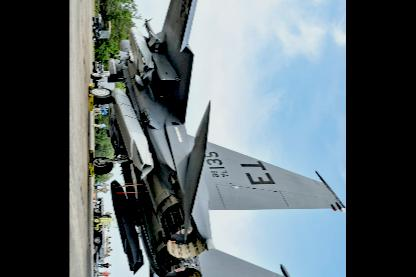F117: (86, 0, 347, 276)
